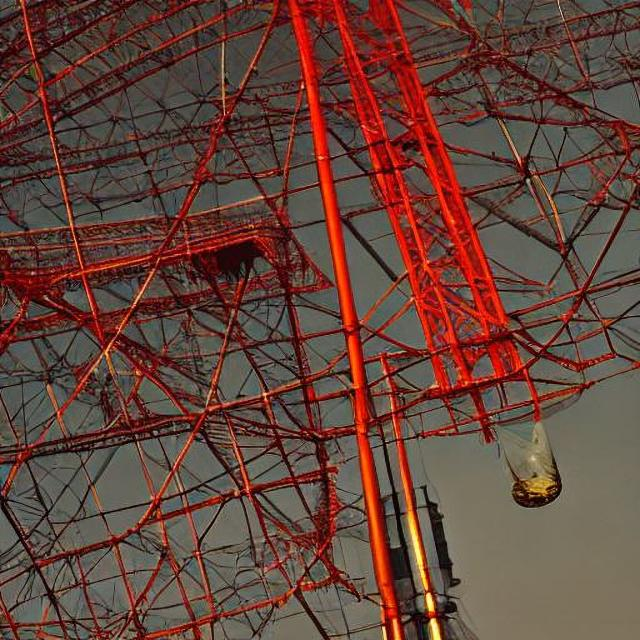floating object: (491, 424, 581, 520)
